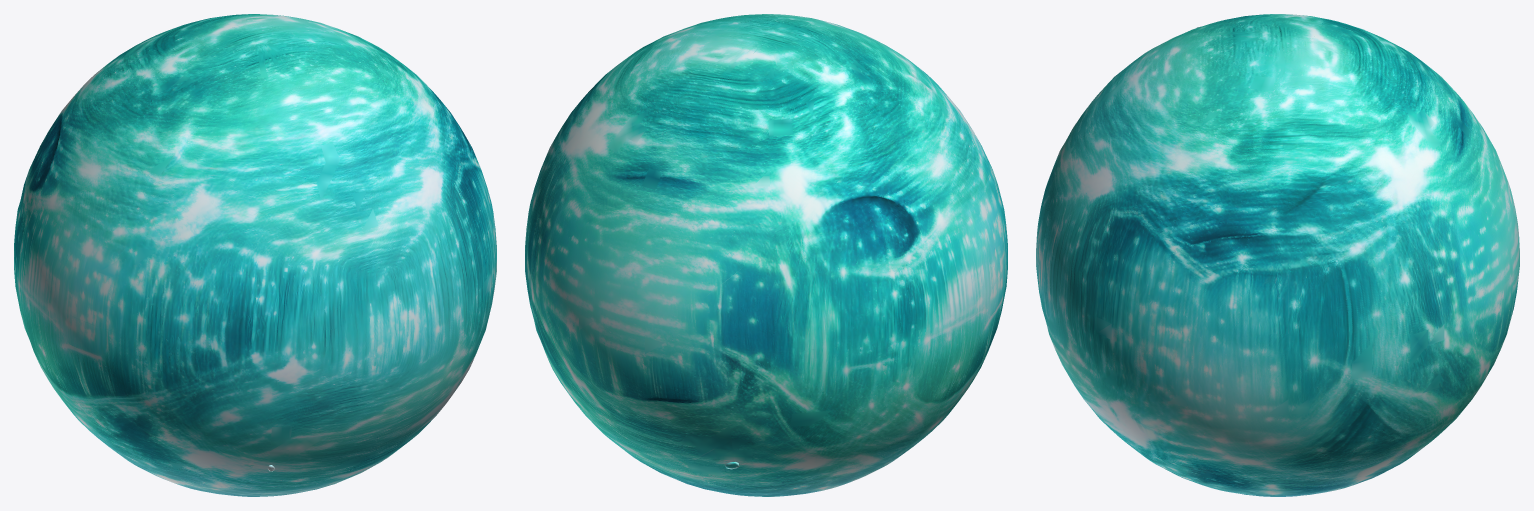
Rendered from orb-3d.glb.
3 renders of one model, left to right at view 1: azimuth 30°, elevation 25°; view 2: azimuth 150°, elevation 25°; view 3: azimuth 270°, elevation 25°, orthographic.
Size of the model in its own units: 1.91 by 1.91 by 1.91.
Materials: 1 (1 with a texture image).
